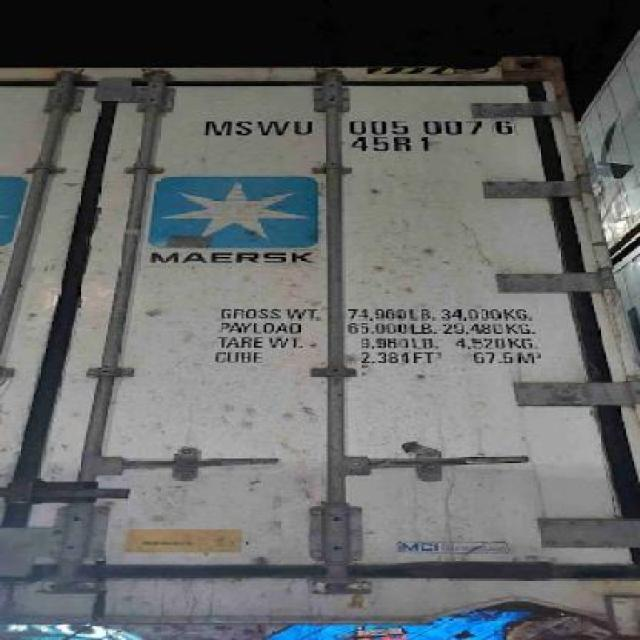ISO: (352, 134, 438, 152)
container_number: (202, 114, 514, 142)
